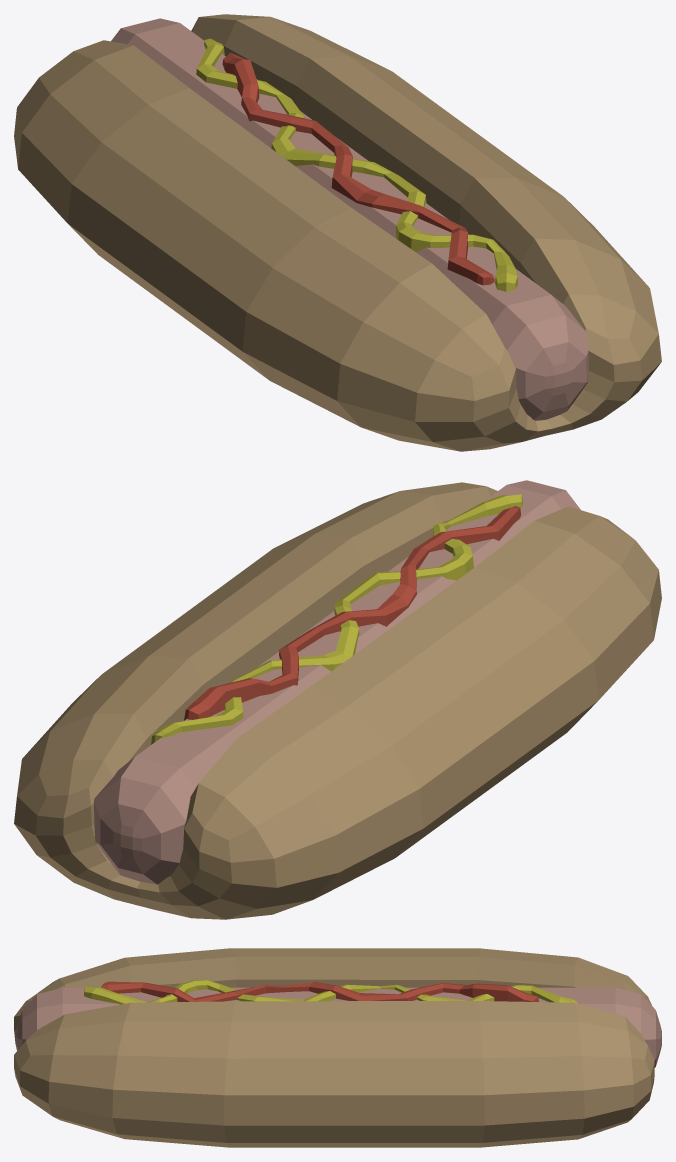
Rendered from Hotdog.glb.
The picture shows the model from 3 angles, top to bottom: view 1: azimuth 30°, elevation 25°; view 2: azimuth 150°, elevation 25°; view 3: azimuth 270°, elevation 25°; orthographic projection. The views are drawn at different scales.
Visible parts, largest first — view 1: Hotdog; view 2: Hotdog; view 3: Hotdog.
Boxes of the visible parts, bbox=[...] form: Hotdog: bbox=[14, 14, 661, 451]; Hotdog: bbox=[14, 480, 661, 919]; Hotdog: bbox=[14, 948, 661, 1147].
Bounding box in the file's own units: 0.0864 × 0.045 × 0.1828.
